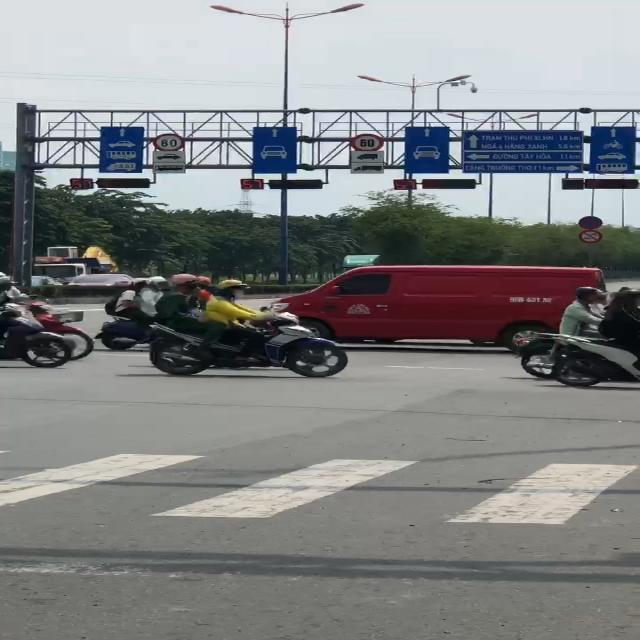Bien bao toc do toi da cho phep: (152, 131, 192, 152), (348, 131, 388, 152)
